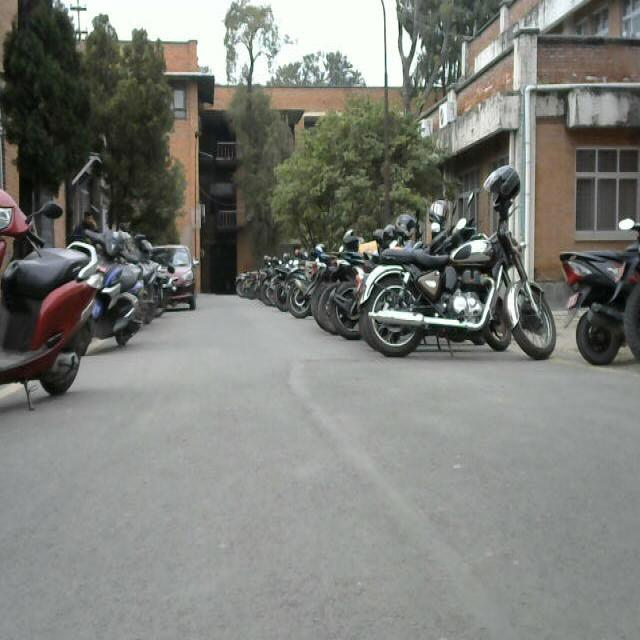Bike: (235, 189, 606, 360), (4, 185, 99, 431)
Buildings: (462, 0, 637, 251)
Road: (0, 296, 640, 640), (46, 303, 640, 640)
trees: (13, 0, 230, 231)
